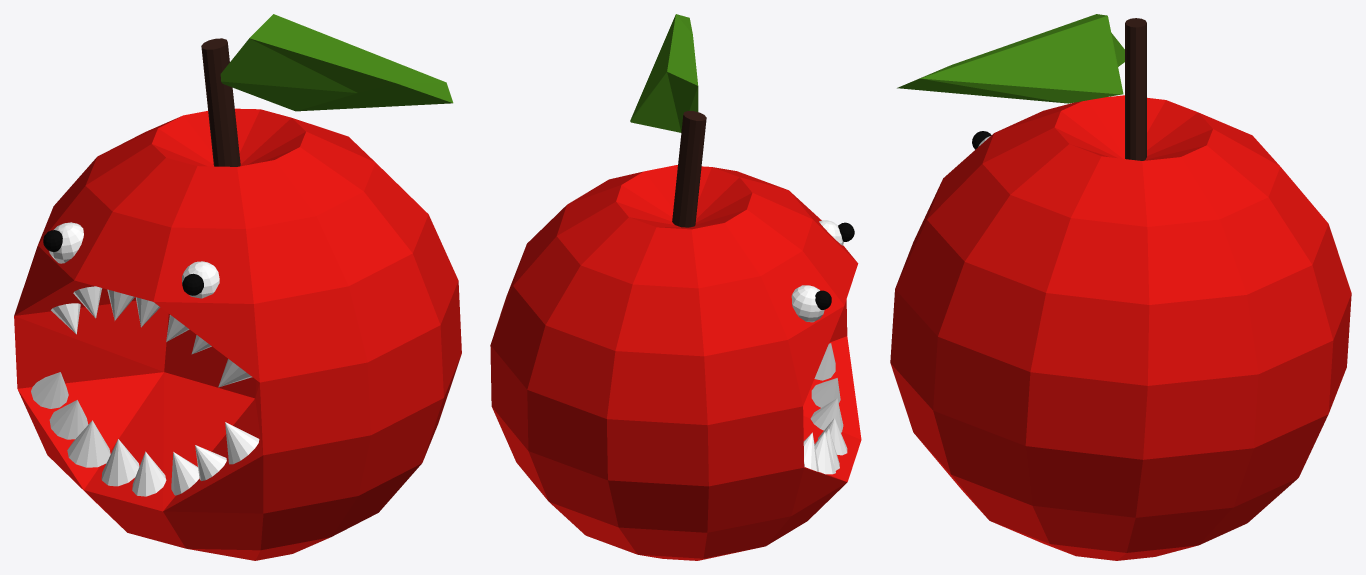
The picture shows the model from 3 angles, left to right: view 1: azimuth 30°, elevation 25°; view 2: azimuth 150°, elevation 25°; view 3: azimuth 270°, elevation 25°; orthographic projection. The views are drawn at different scales.
Visible parts, largest first — view 1: group1748985546, group1362834629, group1544074189, group806463551, group2103304139, group1009427156, group1473236569, group708586271, group215058268, group308988237, group2043722756, group1395368339 (+1 smaller); view 2: group1748985546, group1362834629, group1544074189, group308988237, group2043722756, group1515311910, group806463551, group215058268; view 3: group1748985546, group1362834629, group1544074189.
Part boxes in pixels (left/top/right/bottom): group1748985546: left=14, top=108, right=461, bottom=560; group1362834629: left=220, top=14, right=453, bottom=111; group1544074189: left=201, top=38, right=240, bottom=166; group806463551: left=67, top=420, right=110, bottom=467; group2103304139: left=101, top=439, right=139, bottom=486; group1009427156: left=49, top=400, right=88, bottom=439; group1473236569: left=31, top=372, right=68, bottom=408; group708586271: left=132, top=451, right=166, bottom=496; group215058268: left=225, top=422, right=259, bottom=464; group308988237: left=49, top=222, right=83, bottom=263; group2043722756: left=171, top=452, right=199, bottom=495; group1395368339: left=182, top=261, right=219, bottom=298; group1748985546: left=490, top=165, right=861, bottom=560; group1362834629: left=630, top=14, right=698, bottom=132; group1544074189: left=672, top=111, right=706, bottom=227; group308988237: left=791, top=285, right=824, bottom=322; group2043722756: left=810, top=398, right=843, bottom=432; group1515311910: left=811, top=378, right=840, bottom=407; group806463551: left=814, top=432, right=835, bottom=474; group215058268: left=814, top=343, right=835, bottom=380; group1748985546: left=890, top=95, right=1351, bottom=560; group1362834629: left=897, top=14, right=1124, bottom=103; group1544074189: left=1125, top=18, right=1146, bottom=160.
Bounding box in the file's own units: 0.773 × 1.03 × 0.8099.
